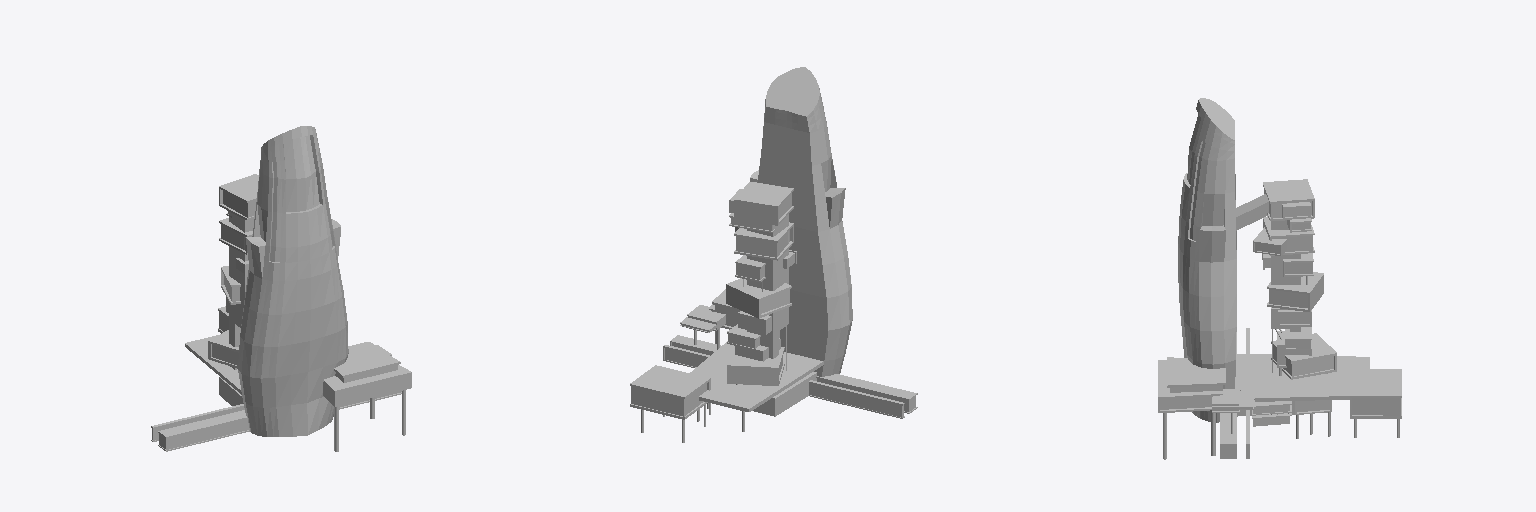
File: boxMesh.obj
3 renders of one model, left to right at view 1: azimuth 30°, elevation 25°; view 2: azimuth 150°, elevation 25°; view 3: azimuth 270°, elevation 25°, orthographic.
Visible parts, largest first — view 1: boxBuildingWuv:headusOBJexport polySurface15, boxBuildingWuv:headusOBJexport polySurface20, boxBuildingWuv:headusOBJexport polySurface21, polySurface1 boxBuildingWuv:headusOBJexport, boxBuildingWuv:headusOBJexport polySurface10, boxBuildingWuv:headusOBJexport polySurface18, boxBuildingWuv:headusOBJexport polySurface5, boxBuildingWuv:headusOBJexport polySurface22, boxBuildingWuv:headusOBJexport polySurface12; view 2: boxBuildingWuv:headusOBJexport polySurface15, boxBuildingWuv:headusOBJexport polySurface18, boxBuildingWuv:headusOBJexport polySurface23, boxBuildingWuv:headusOBJexport polySurface22, boxBuildingWuv:headusOBJexport polySurface10, boxBuildingWuv:headusOBJexport polySurface21, polySurface1 boxBuildingWuv:headusOBJexport, boxBuildingWuv:headusOBJexport polySurface4, boxBuildingWuv:headusOBJexport polySurface5, boxBuildingWuv:headusOBJexport polySurface12, boxBuildingWuv:headusOBJexport polySurface14, boxBuildingWuv:headusOBJexport polySurface47 (+4 smaller); view 3: boxBuildingWuv:headusOBJexport polySurface15, boxBuildingWuv:headusOBJexport polySurface18, boxBuildingWuv:headusOBJexport polySurface20, boxBuildingWuv:headusOBJexport polySurface23, boxBuildingWuv:headusOBJexport polySurface5, boxBuildingWuv:headusOBJexport polySurface4, boxBuildingWuv:headusOBJexport polySurface10, polySurface1 boxBuildingWuv:headusOBJexport, boxBuildingWuv:headusOBJexport polySurface12, boxBuildingWuv:headusOBJexport polySurface47, boxBuildingWuv:headusOBJexport polySurface21, boxBuildingWuv:headusOBJexport polySurface13 (+4 smaller).
Boxes of the visible parts, <box> form: boxBuildingWuv:headusOBJexport polySurface15: <box>238,126,348,436</box>; boxBuildingWuv:headusOBJexport polySurface20: <box>323,342,411,406</box>; boxBuildingWuv:headusOBJexport polySurface21: <box>158,391,401,451</box>; polySurface1 boxBuildingWuv:headusOBJexport: <box>229,212,254,369</box>; boxBuildingWuv:headusOBJexport polySurface10: <box>219,174,258,220</box>; boxBuildingWuv:headusOBJexport polySurface18: <box>185,335,241,394</box>; boxBuildingWuv:headusOBJexport polySurface5: <box>208,330,238,368</box>; boxBuildingWuv:headusOBJexport polySurface22: <box>151,404,244,441</box>; boxBuildingWuv:headusOBJexport polySurface12: <box>219,218,252,254</box>; boxBuildingWuv:headusOBJexport polySurface15: <box>750,67,852,376</box>; boxBuildingWuv:headusOBJexport polySurface18: <box>690,341,823,411</box>; boxBuildingWuv:headusOBJexport polySurface23: <box>630,365,710,419</box>; boxBuildingWuv:headusOBJexport polySurface22: <box>663,345,904,418</box>; boxBuildingWuv:headusOBJexport polySurface10: <box>734,182,793,225</box>; boxBuildingWuv:headusOBJexport polySurface21: <box>670,335,917,413</box>; polySurface1 boxBuildingWuv:headusOBJexport: <box>747,214,788,358</box>; boxBuildingWuv:headusOBJexport polySurface4: <box>726,278,791,318</box>; boxBuildingWuv:headusOBJexport polySurface5: <box>727,345,784,385</box>; boxBuildingWuv:headusOBJexport polySurface12: <box>734,222,793,260</box>; boxBuildingWuv:headusOBJexport polySurface14: <box>753,372,816,416</box>; boxBuildingWuv:headusOBJexport polySurface47: <box>680,305,725,332</box>; boxBuildingWuv:headusOBJexport polySurface15: <box>1178,98,1236,422</box>; boxBuildingWuv:headusOBJexport polySurface18: <box>1235,353,1369,401</box>; boxBuildingWuv:headusOBJexport polySurface20: <box>1158,357,1225,412</box>; boxBuildingWuv:headusOBJexport polySurface23: <box>1350,369,1401,418</box>; boxBuildingWuv:headusOBJexport polySurface5: <box>1271,333,1336,379</box>; boxBuildingWuv:headusOBJexport polySurface4: <box>1267,272,1323,311</box>; boxBuildingWuv:headusOBJexport polySurface10: <box>1263,179,1314,220</box>; polySurface1 boxBuildingWuv:headusOBJexport: <box>1271,220,1300,331</box>; boxBuildingWuv:headusOBJexport polySurface12: <box>1263,216,1314,255</box>; boxBuildingWuv:headusOBJexport polySurface47: <box>1212,389,1254,412</box>; boxBuildingWuv:headusOBJexport polySurface21: <box>1220,332,1236,458</box>; boxBuildingWuv:headusOBJexport polySurface13: <box>1236,194,1268,230</box>.
Bounding box in the file's own units: 71.19 × 90.04 × 62.71.